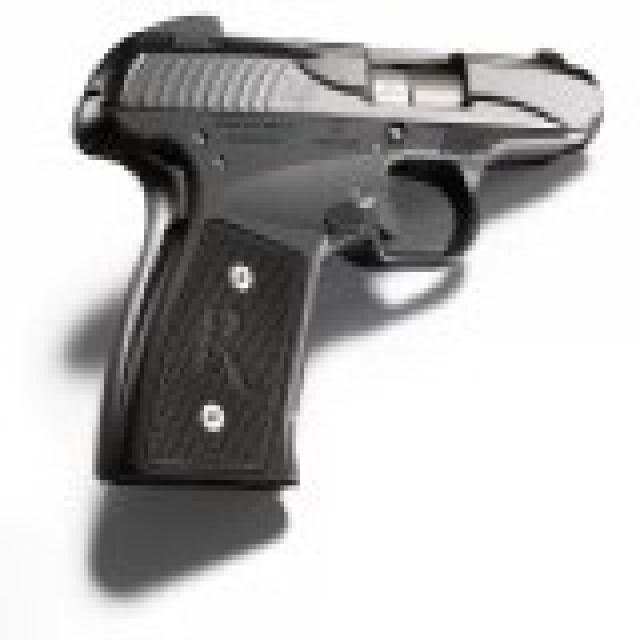Gun: (58, 2, 599, 508)
